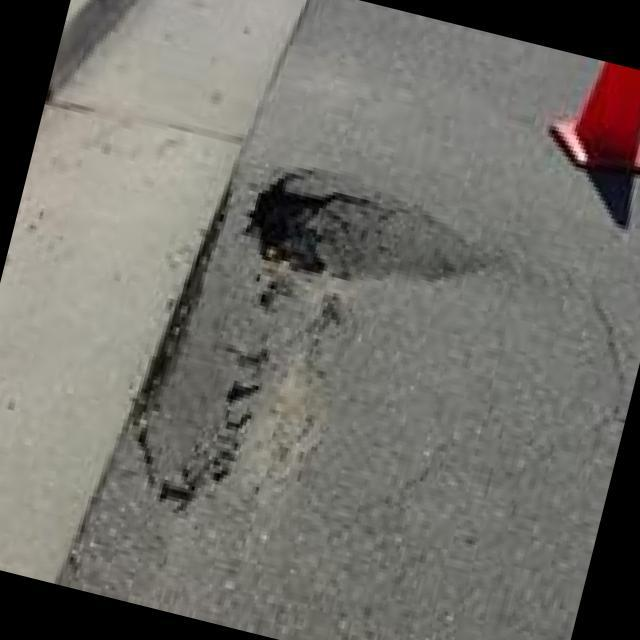Pothole: (222, 144, 364, 272)
